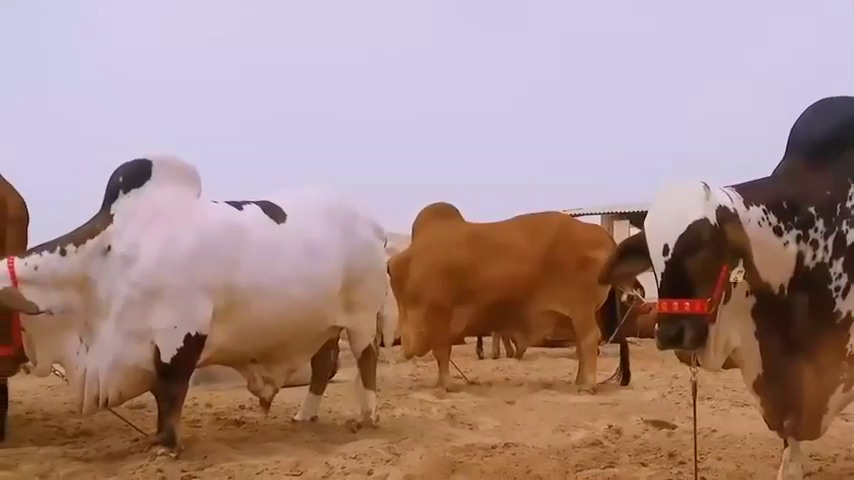bo: (4, 152, 401, 476), (590, 92, 846, 477), (373, 186, 635, 410)
